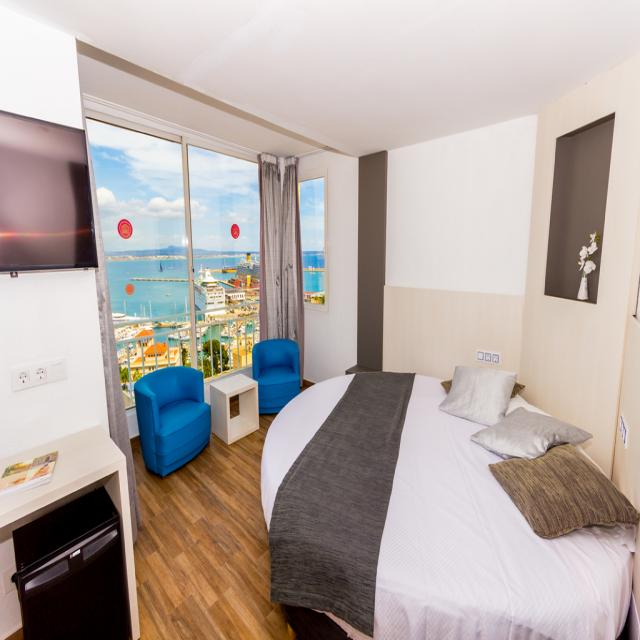chair: (134, 365, 211, 478), (252, 338, 302, 414)
desk: (0, 428, 141, 634)
